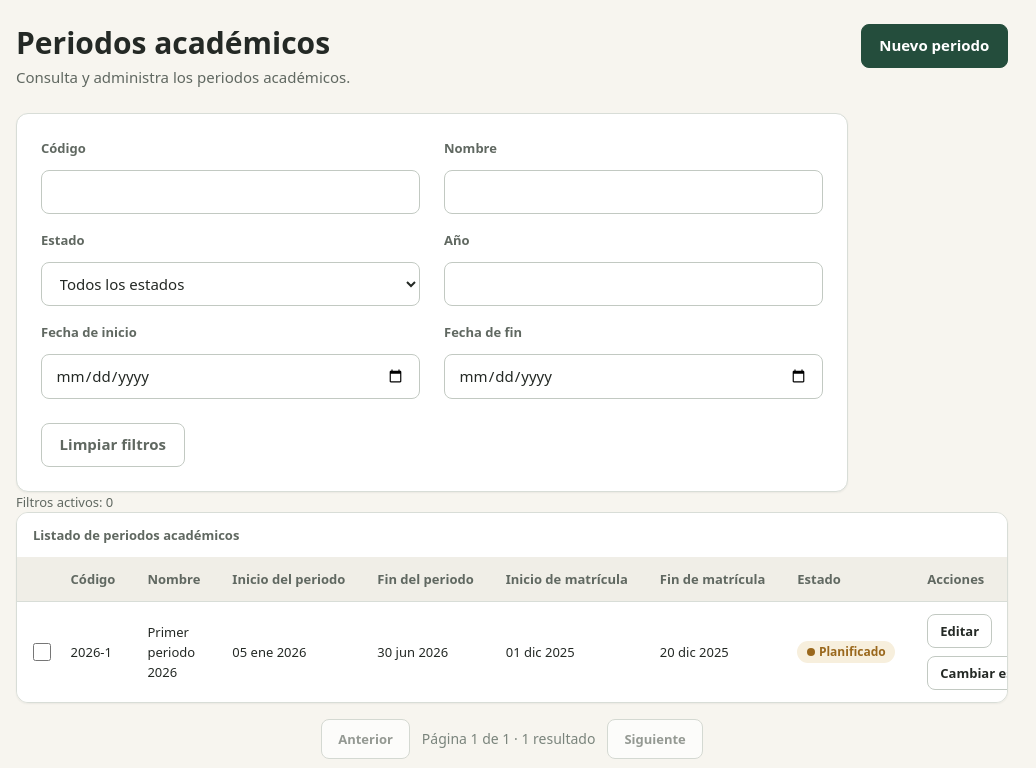
Test: ListadoPeriodosComponent › muestra la barra contextual con Editar y Cambiar estado al seleccionar
Click the cell "2026-1": (93, 652) [55, 602, 131, 702]
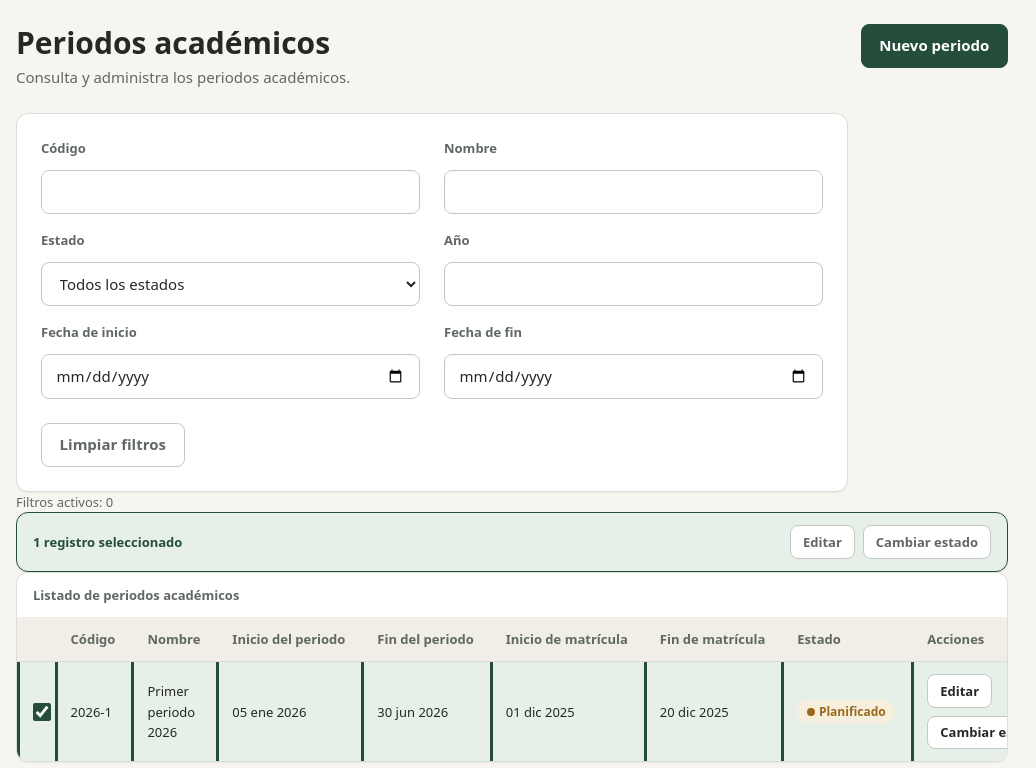
Result: the text "1 registro seleccionado" is shown at [33, 532, 182, 552]
Result: the button "Editar" is shown at [790, 525, 855, 559]
Result: the button "Cambiar estado" is shown at [863, 525, 991, 559]
